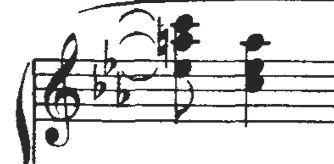flat: (112, 70, 136, 112), (88, 60, 109, 106), (97, 38, 119, 79)
treble_clef: (40, 29, 87, 156)
